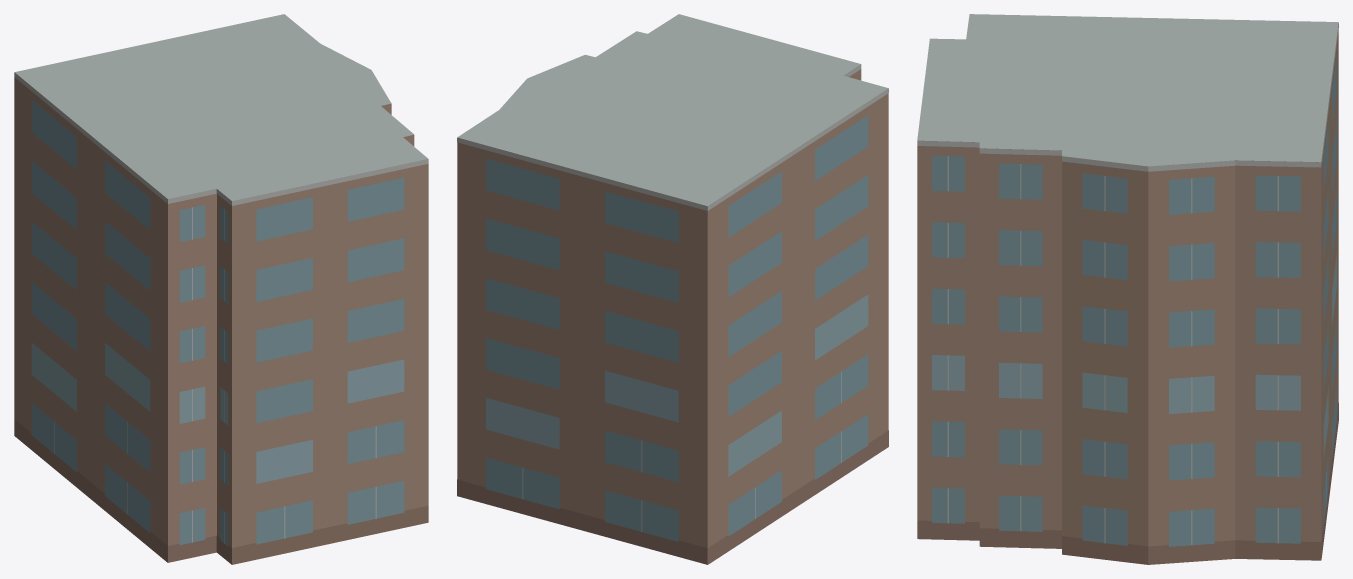
Rendered from survey-upis-32878560.glb.
3 renders of one model, left to right at view 1: azimuth 30°, elevation 25°; view 2: azimuth 150°, elevation 25°; view 3: azimuth 270°, elevation 25°, orthographic. The views are drawn at different scales.
Parts seen in each view (by area): view 1: survey-upis-32878560.tmp; view 2: survey-upis-32878560.tmp; view 3: survey-upis-32878560.tmp.
Part boxes in pixels (bbox=[...]): survey-upis-32878560.tmp: bbox=[14, 14, 428, 564]; survey-upis-32878560.tmp: bbox=[457, 14, 888, 564]; survey-upis-32878560.tmp: bbox=[917, 14, 1338, 564].
Bounding box in the file's own units: 15.03 × 18.3 × 17.56.
